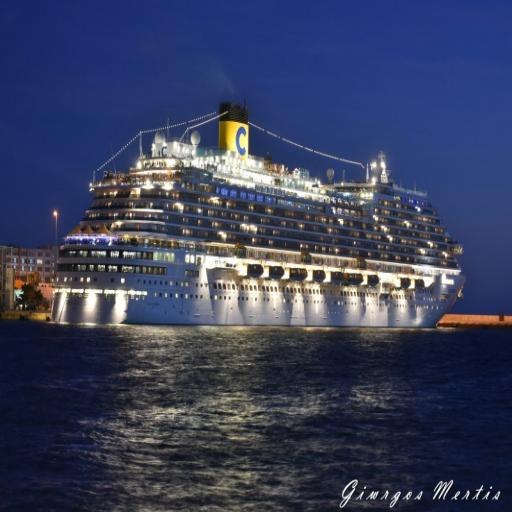cruises: (41, 98, 469, 341)
